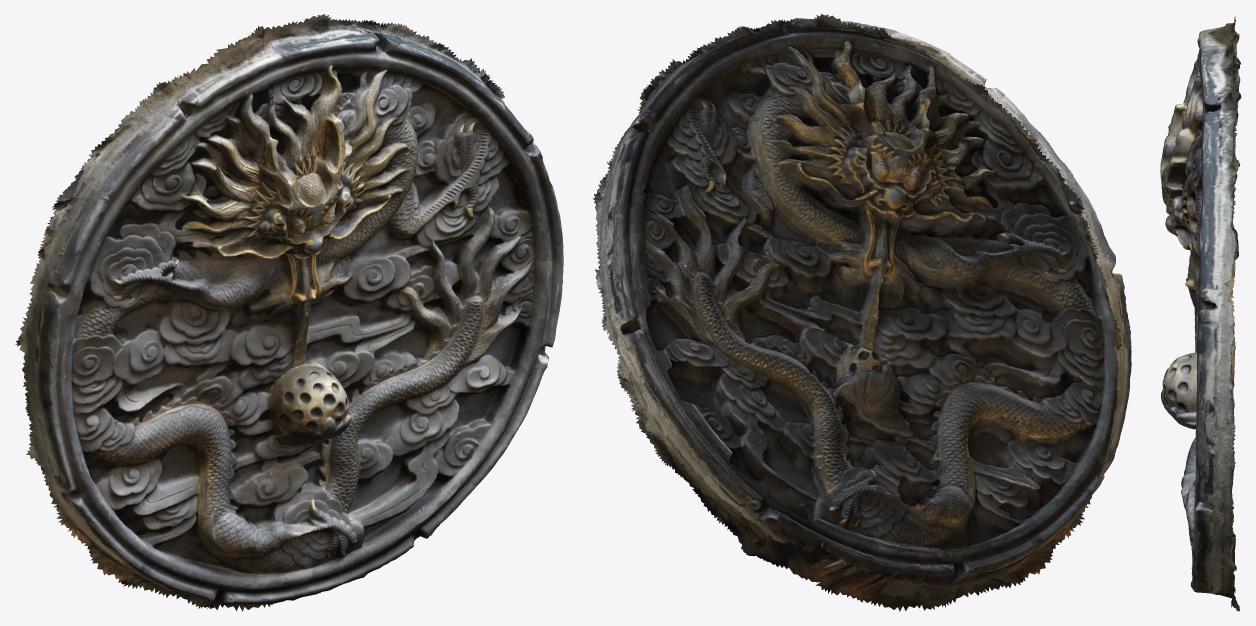
3 views of the same model, side by side, from view 1: azimuth 30°, elevation 25°; view 2: azimuth 150°, elevation 25°; view 3: azimuth 270°, elevation 25° (orthographic). The views are drawn at different scales.
Parts seen in each view (by area): view 1: Object_2; view 2: Object_2; view 3: Object_2.
Boxes of the visible parts, box(x1,y1,x2,y2) form: Object_2: box(15, 14, 563, 611); Object_2: box(593, 14, 1131, 611); Object_2: box(1160, 14, 1241, 611).
Bounding box in the file's own units: 41.87 × 43.66 × 5.91.
1 material, 1 textured.
